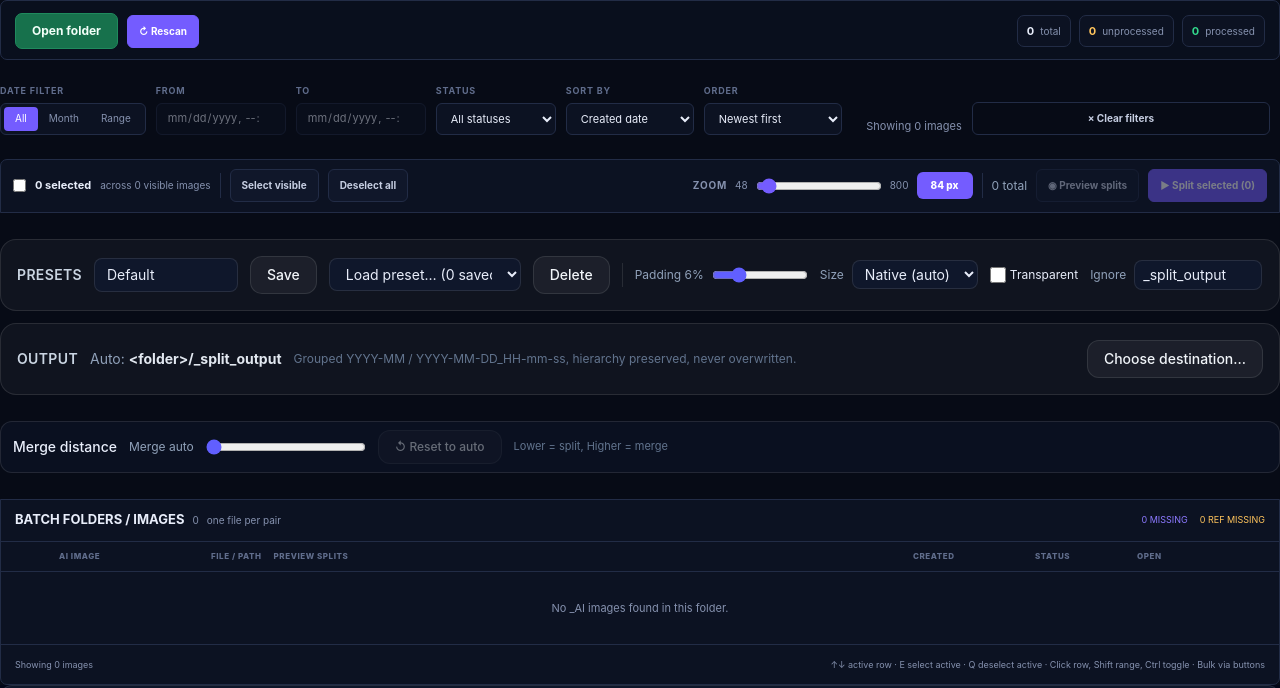
Test case: Batch V2 selection: active row separate from checked › tri-state header, Select visible, Deselect all, counts
Step 1. Click the button with test id "batch-open-folder" → coordinates (66, 31), box [15,13,118,49]
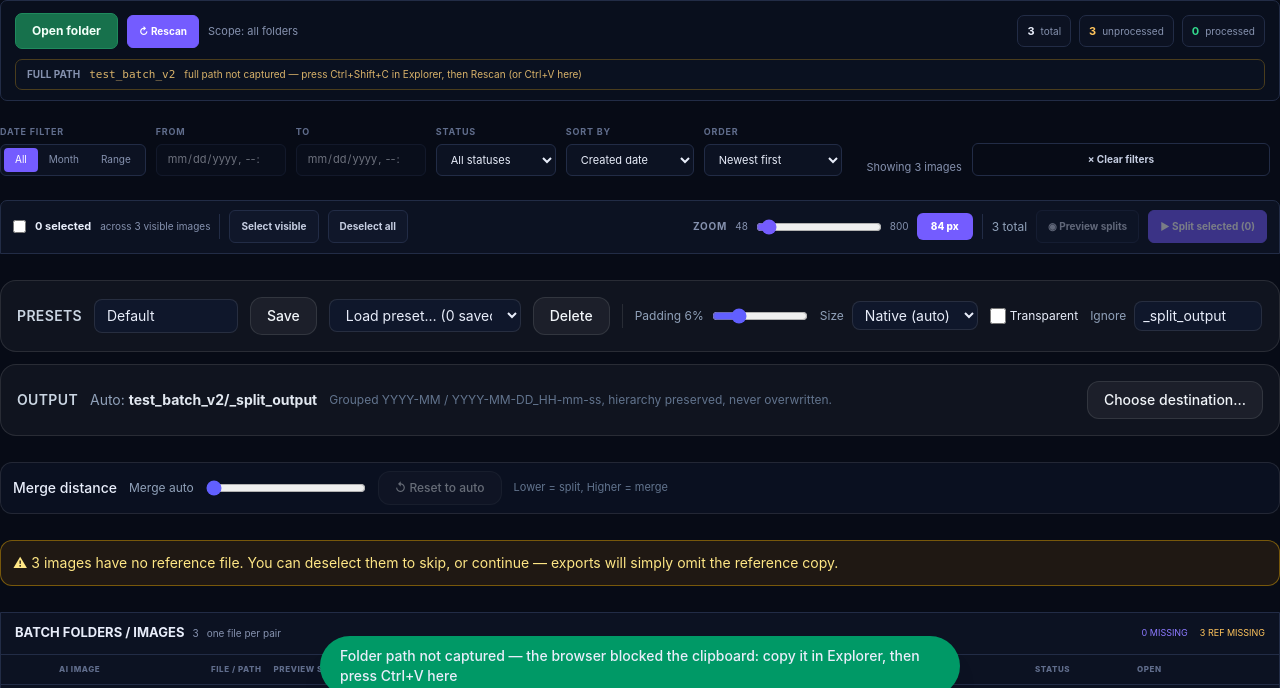
Check: the checkbox with test id "batch-check-all" is not checked, box [13,220,26,233]
Step 2. Click the button with test id "batch-select-visible" → coordinates (274, 226), box [229,210,318,243]
(page scrolled)
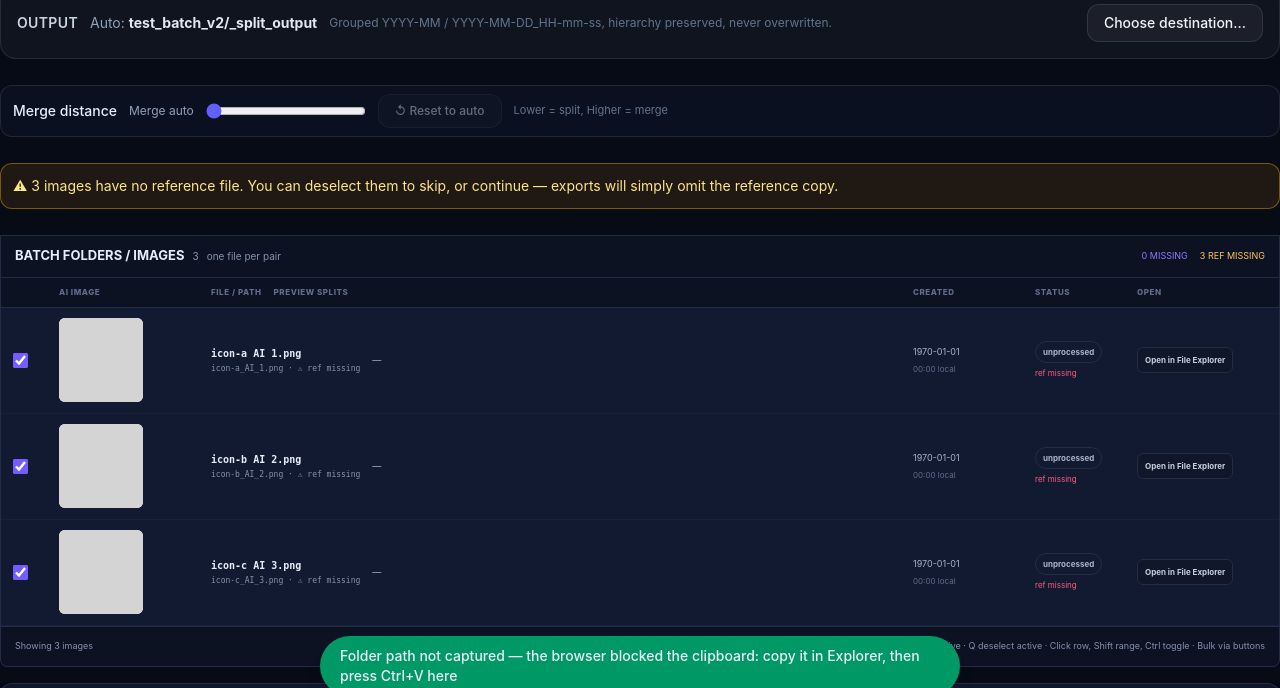
Step 3. Click the checkbox with test id "row-select-icon-a_AI_1.png" → coordinates (20, 360), box [13,352,28,368]
(page scrolled)
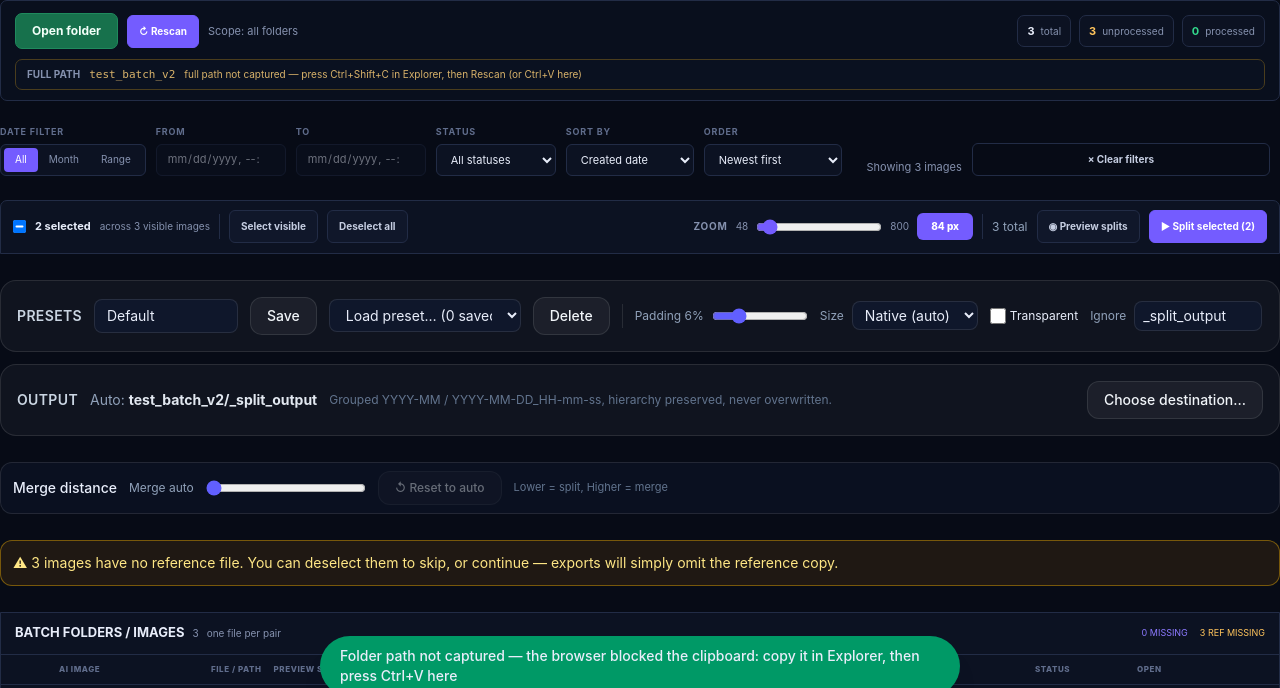
Step 4. Click the button with test id "batch-deselect" → coordinates (367, 226), box [327,210,408,243]
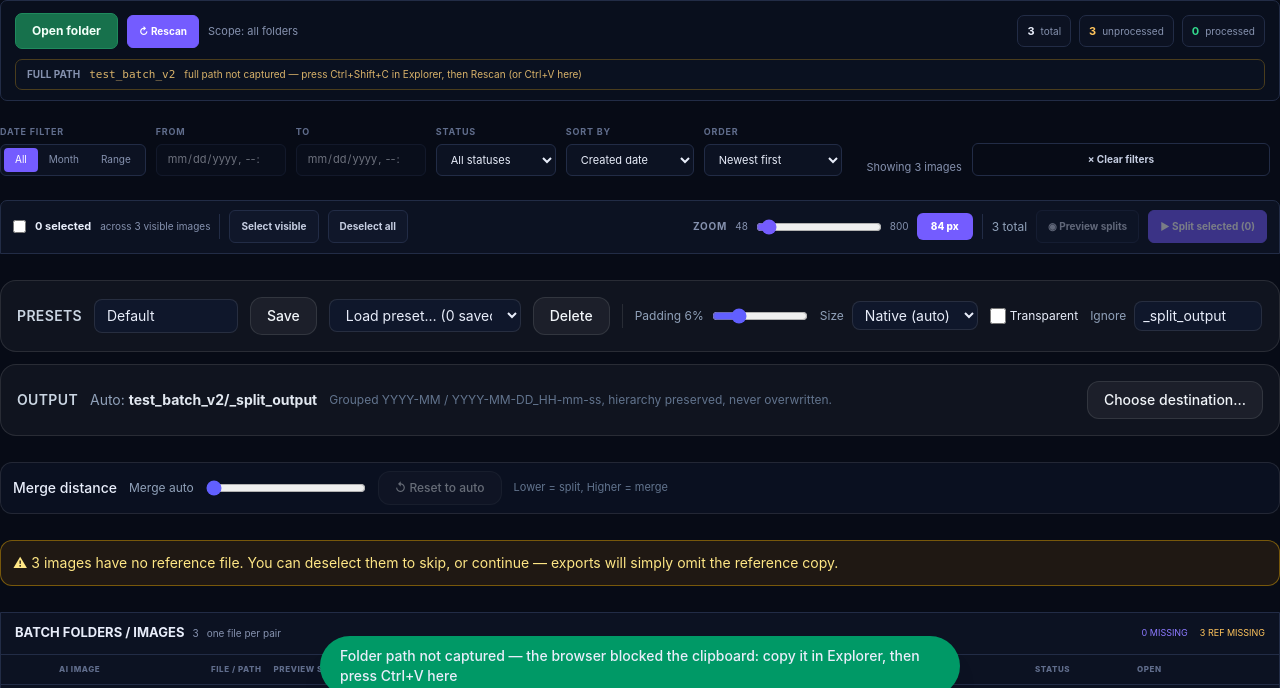
Check: the text with test id "batch-selected-count" reads "0 selected", box [35,218,91,235]
